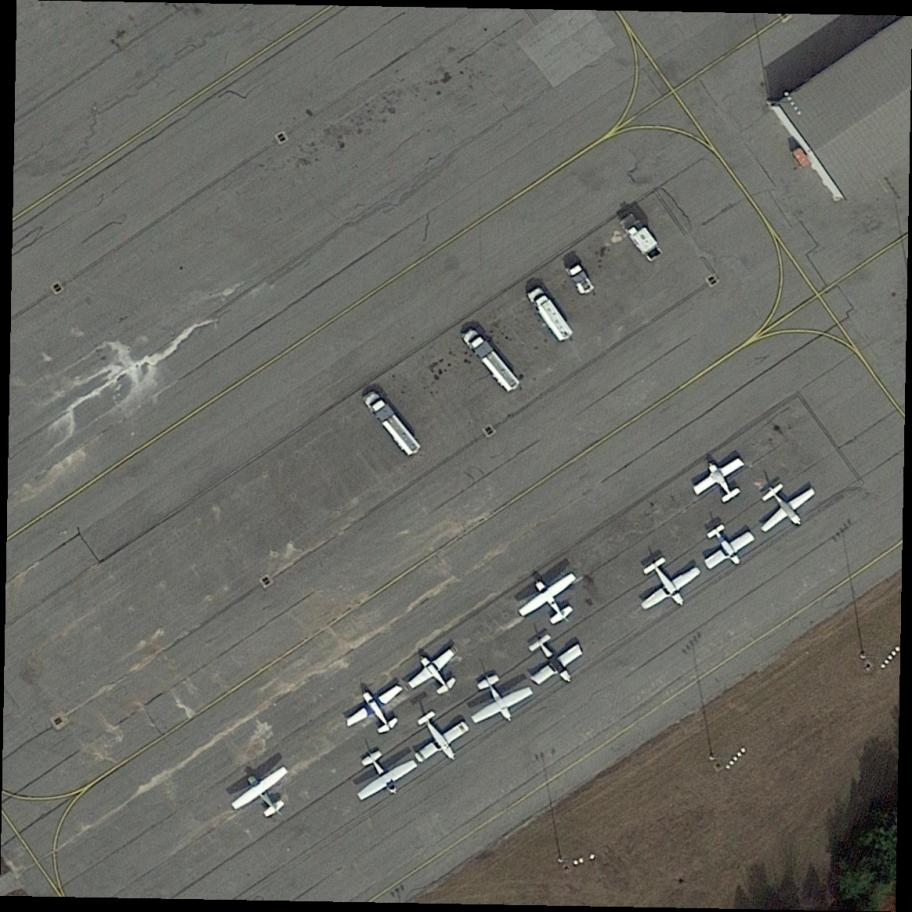large-vehicle: (460, 322, 523, 395), (361, 387, 422, 459), (527, 284, 575, 345), (614, 209, 664, 266)
plane: (619, 536, 714, 628), (509, 615, 598, 703), (740, 462, 828, 546), (396, 696, 483, 779), (456, 659, 544, 738), (508, 561, 593, 642), (223, 755, 309, 835), (333, 671, 420, 749), (340, 732, 425, 811), (686, 503, 767, 581), (680, 444, 761, 518), (399, 638, 474, 710)
small-vehicle: (563, 260, 597, 299)
